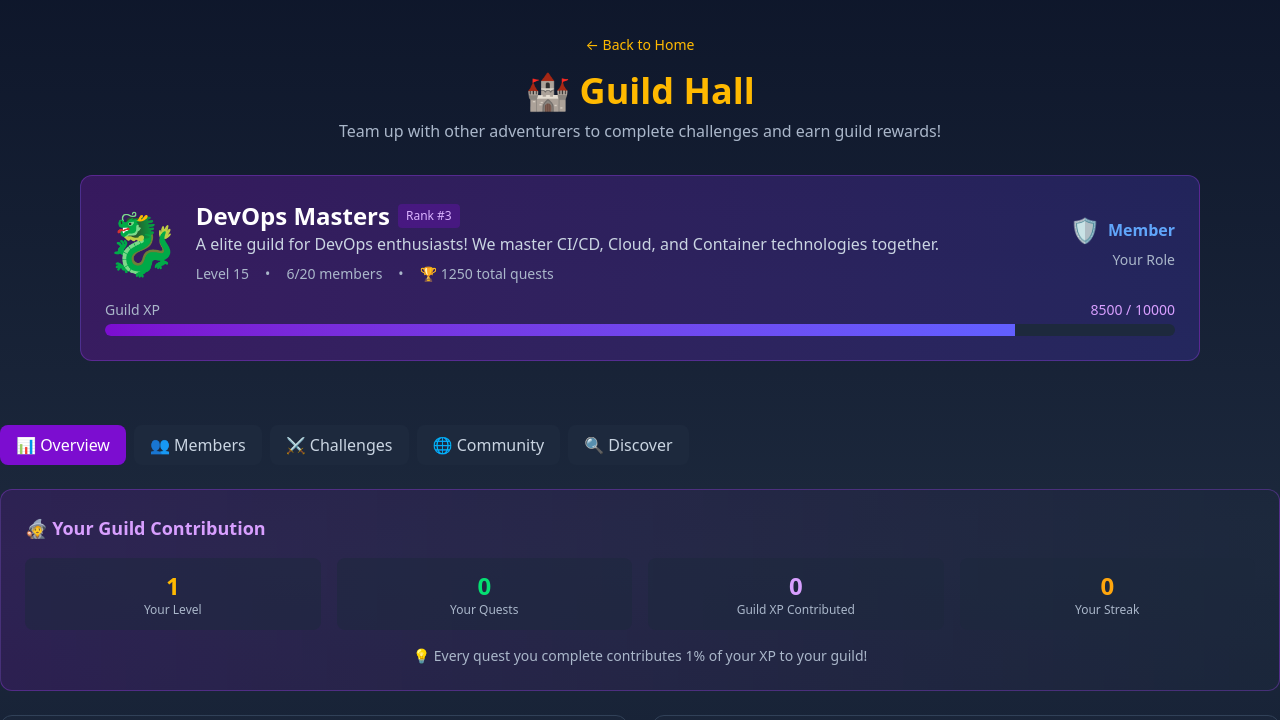
GuildPage › lists the roster with the player mixed in on the members tab
The width and height of the screenshot is (1280, 720).
Click the button "👥 Members" at x=198, y=445, box [134,425,262,465]
(page scrolled)
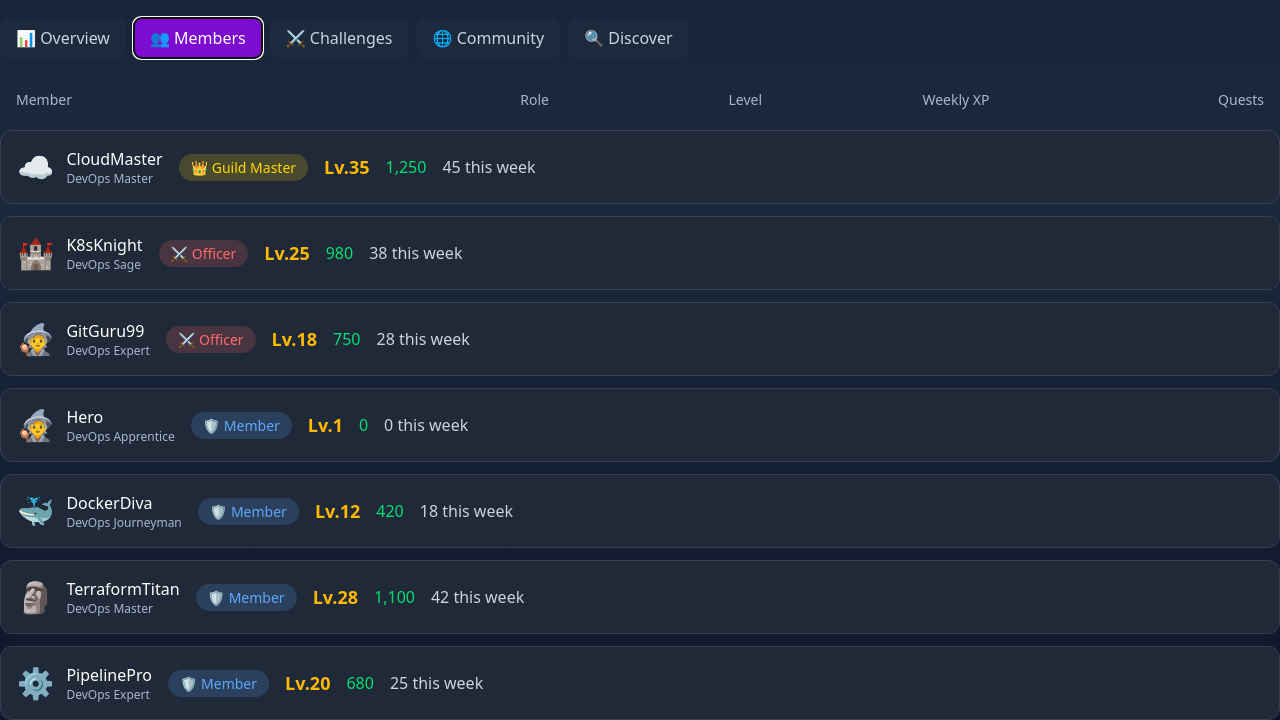
Result: the text "Weekly XP" is shown at [922,90,990,109]
Result: the text "CloudMaster" is shown at [66,147,163,171]
Result: the text "K8sKnight" is shown at [66,233,143,257]
